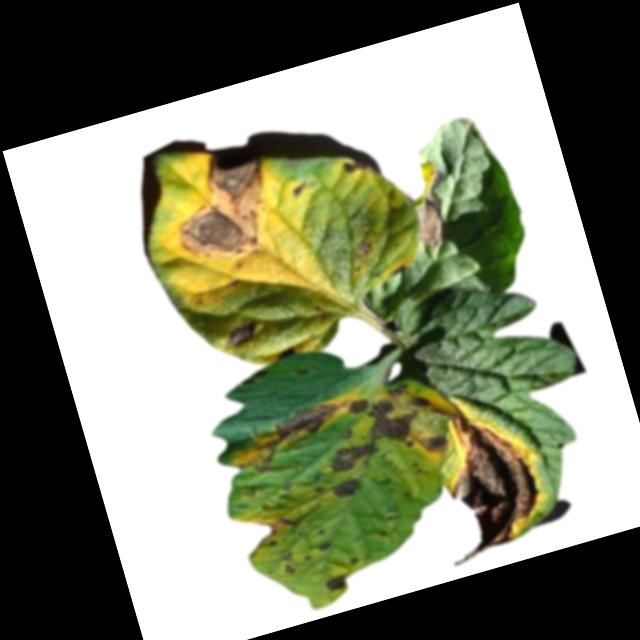Early_blight: (413, 399, 559, 570), (151, 143, 289, 279), (226, 398, 351, 478), (363, 375, 441, 454), (399, 159, 456, 252), (218, 312, 263, 354), (328, 442, 379, 477), (337, 155, 378, 188), (319, 570, 356, 598), (330, 475, 364, 505), (267, 513, 301, 539), (344, 393, 370, 421), (278, 550, 299, 578), (351, 240, 376, 261), (287, 181, 310, 200), (314, 540, 330, 557)
